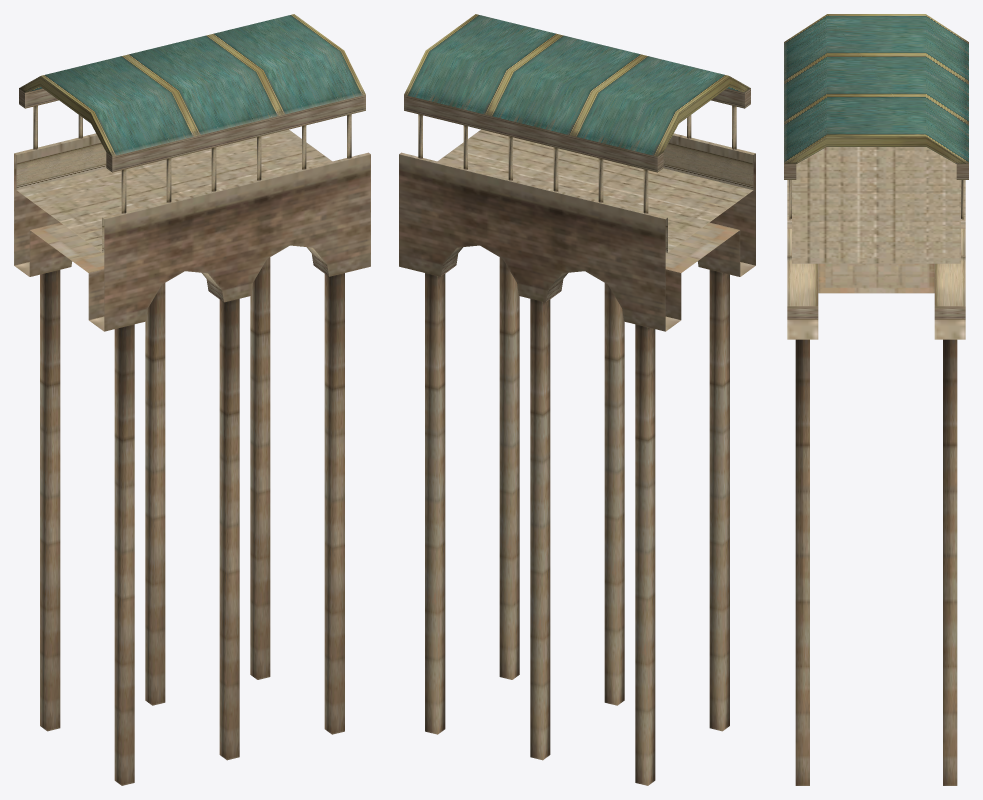
The model's file is thm_nboo_imprv_enclosed_walkway_s01_l2.fbx.
3 views of the same model, side by side, from view 1: azimuth 30°, elevation 25°; view 2: azimuth 150°, elevation 25°; view 3: azimuth 270°, elevation 25° (orthographic).
Parts seen in each view (by area): view 1: mesh_node; view 2: mesh_node; view 3: mesh_node.
Part boxes in pixels (<box>): mesh_node: <box>14,14,370,785</box>; mesh_node: <box>399,14,755,785</box>; mesh_node: <box>784,14,968,785</box>.
Bounding box in the file's own units: 8.88 × 21.18 × 5.39.
